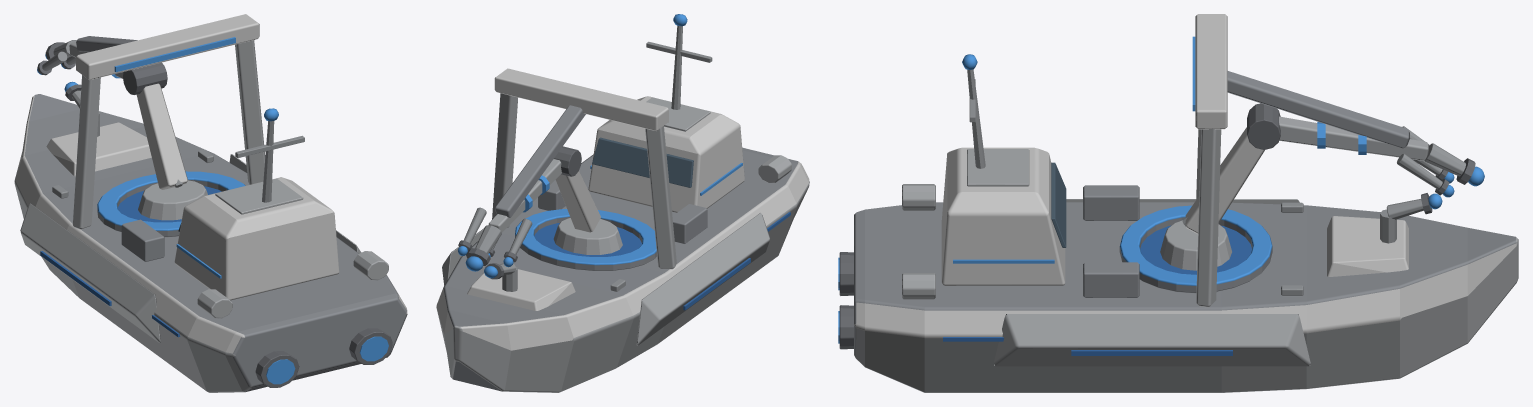
File: lattice_builder_adv_sea.glb
3 renders of one model, left to right at view 1: azimuth 30°, elevation 25°; view 2: azimuth 150°, elevation 25°; view 3: azimuth 270°, elevation 25°, orthographic. The views are drawn at different scales.
Visible parts, largest first — view 1: Body; view 2: Body; view 3: Body.
Part boxes in pixels (x1,y1,x2,y2): Body: (14,14,407,392); Body: (436,14,809,392); Body: (838,14,1518,392).
Bounding box in the file's own units: 1.18 × 1.19 × 2.53.
